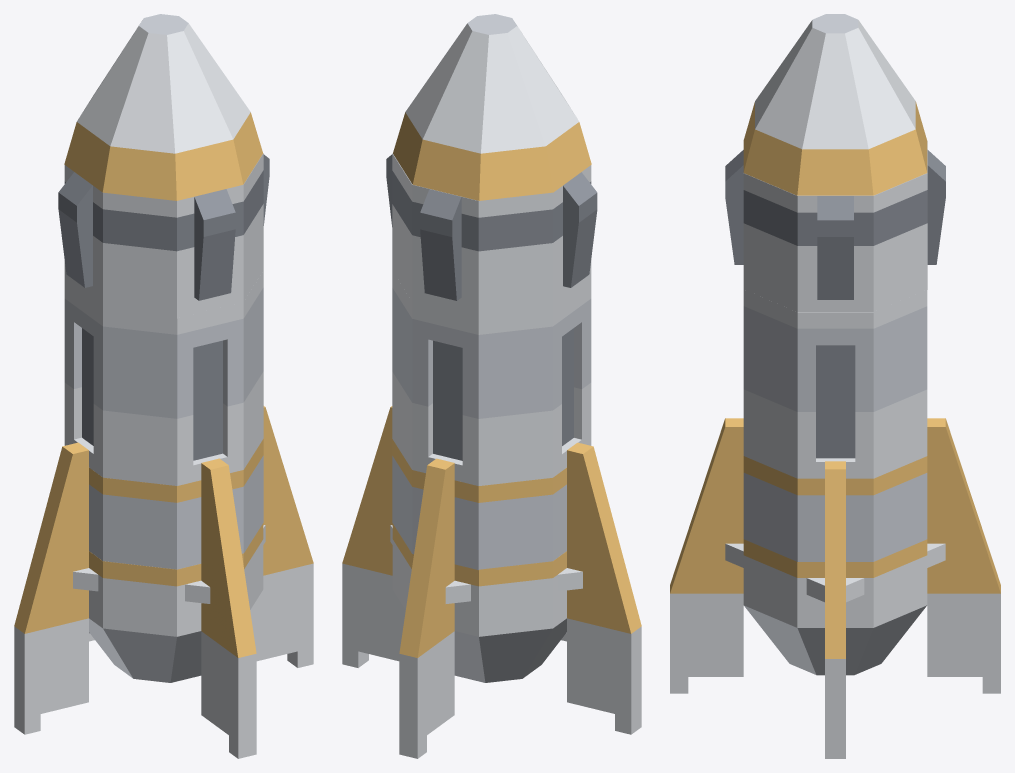
The model's file is foguete.glb.
The picture shows the model from 3 angles, left to right: view 1: azimuth 30°, elevation 25°; view 2: azimuth 150°, elevation 25°; view 3: azimuth 270°, elevation 25°; orthographic projection.
Visible parts, largest first — view 1: rocket_baseA, rocket_sidesA, rocket_topA, rocket_finsA, rocket_fuelA; view 2: rocket_baseA, rocket_sidesA, rocket_topA, rocket_finsA, rocket_fuelA; view 3: rocket_baseA, rocket_sidesA, rocket_finsA, rocket_topA, rocket_fuelA.
Part boxes in pixels (bbox=[...]): rocket_baseA: bbox=[14, 406, 313, 758]; rocket_sidesA: bbox=[64, 271, 263, 485]; rocket_topA: bbox=[64, 14, 263, 200]; rocket_finsA: bbox=[58, 153, 269, 318]; rocket_fuelA: bbox=[89, 439, 263, 569]; rocket_baseA: bbox=[342, 406, 641, 758]; rocket_sidesA: bbox=[392, 271, 591, 485]; rocket_topA: bbox=[393, 14, 591, 200]; rocket_finsA: bbox=[386, 153, 597, 318]; rocket_fuelA: bbox=[392, 439, 566, 569]; rocket_baseA: bbox=[670, 418, 1000, 758]; rocket_sidesA: bbox=[743, 289, 927, 478]; rocket_finsA: bbox=[725, 141, 945, 311]; rocket_topA: bbox=[743, 14, 927, 195]; rocket_fuelA: bbox=[743, 456, 927, 561].
Size of the model in its own units: 1.8 by 3.99 by 1.8.
